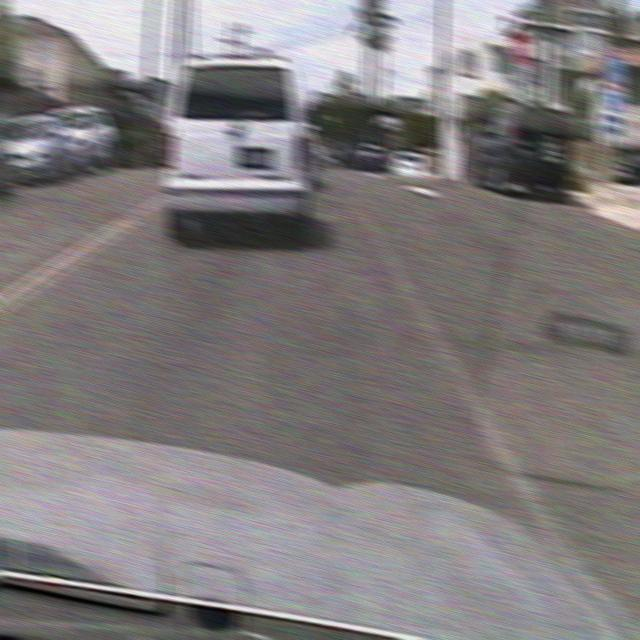stop: (506, 29, 537, 67)
